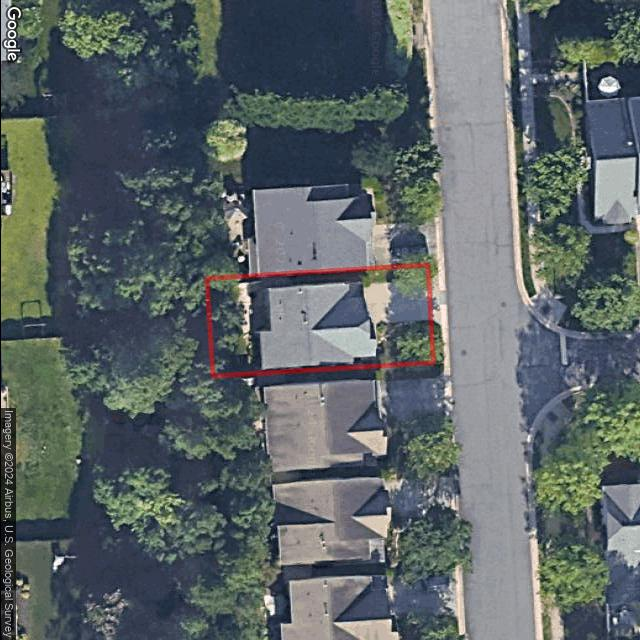Driveway: (362, 282, 430, 324)
Extra-Driveway: (427, 275, 439, 324)
Extra-Lawn: (430, 321, 441, 363), (427, 265, 437, 281)
House: (259, 281, 376, 370)
Lawn: (205, 266, 432, 376)
Other: (238, 281, 268, 356)
Sidewalk: (369, 324, 376, 339)
